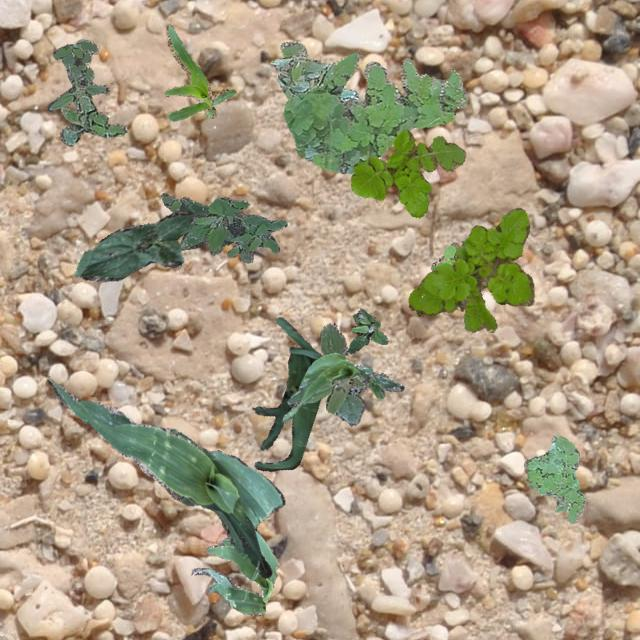crop: (48, 379, 284, 576), (252, 316, 322, 471), (282, 352, 402, 422), (74, 212, 192, 282), (190, 528, 278, 614), (162, 22, 235, 120)
weed: (282, 51, 466, 172), (408, 208, 534, 330), (286, 322, 386, 424), (350, 130, 464, 216), (160, 192, 286, 262), (522, 433, 584, 522), (270, 40, 358, 100), (282, 348, 348, 423), (46, 38, 108, 110), (58, 94, 125, 144), (348, 308, 388, 352), (429, 240, 464, 270)
